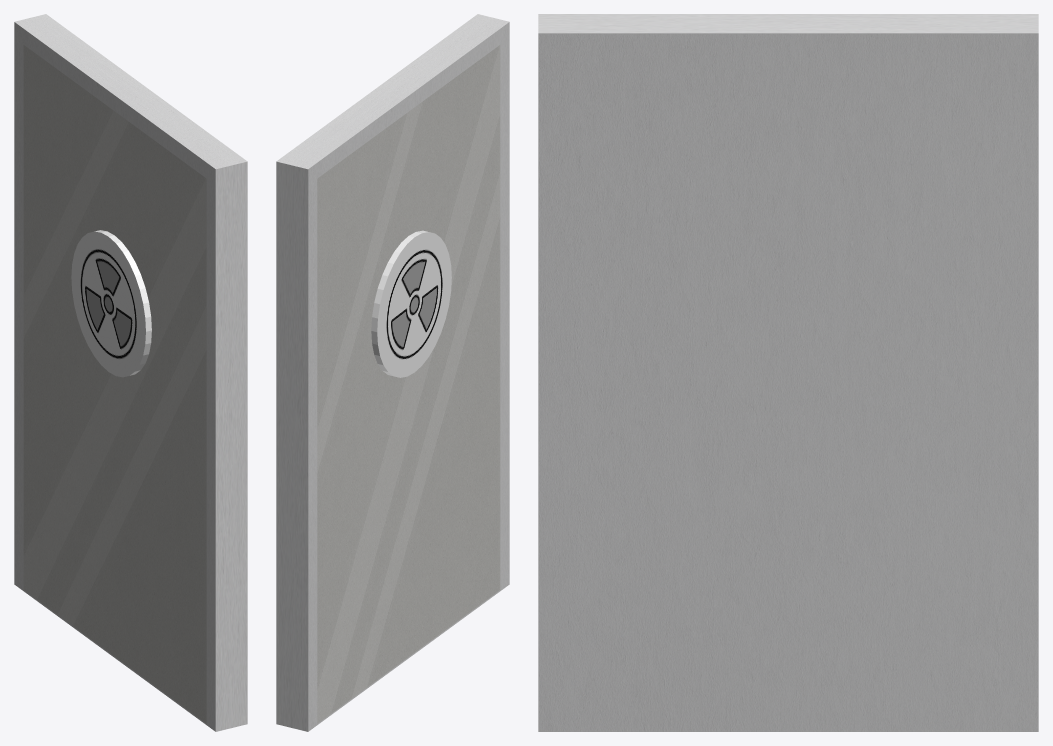
File: Cuarto.obj
The picture shows the model from 3 angles, left to right: view 1: azimuth 30°, elevation 25°; view 2: azimuth 150°, elevation 25°; view 3: azimuth 270°, elevation 25°; orthographic projection. The views are drawn at different scales.
Visible parts, largest first — view 1: Cube.008, Circle.011; view 2: Cube.008, Circle.011; view 3: Cube.008.
Part boxes in pixels (box(x1,y1,x2,y2)): Cube.008: box(14, 14, 247, 731); Circle.011: box(71, 230, 151, 377); Cube.008: box(276, 14, 509, 731); Circle.011: box(371, 230, 451, 377); Cube.008: box(538, 14, 1038, 731).
Bounding box in the file's own units: 0.1522 × 2.16 × 1.4.
3 materials, 3 textured.
